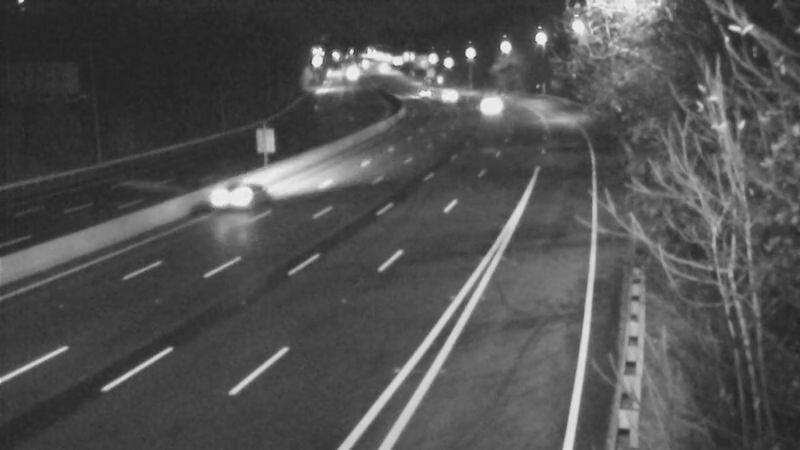vehicle: (199, 160, 279, 240), (397, 66, 447, 116), (425, 69, 475, 119), (459, 81, 509, 131)
